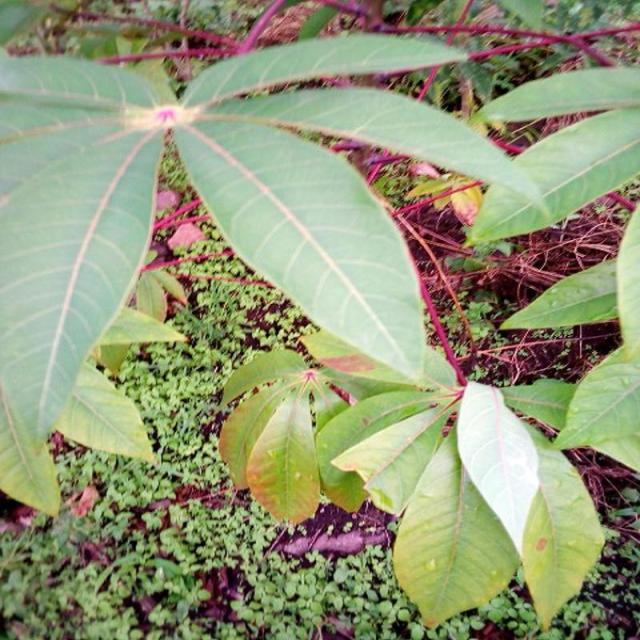cassava leaf: (2, 24, 639, 630), (1, 47, 168, 516), (174, 110, 428, 386)
